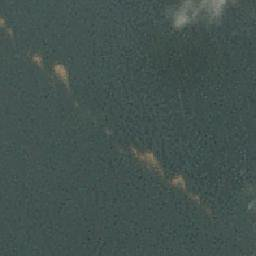cloud: (183, 1, 223, 16)
debris: (128, 145, 161, 169), (159, 175, 193, 191), (54, 63, 70, 91), (31, 52, 44, 67)
